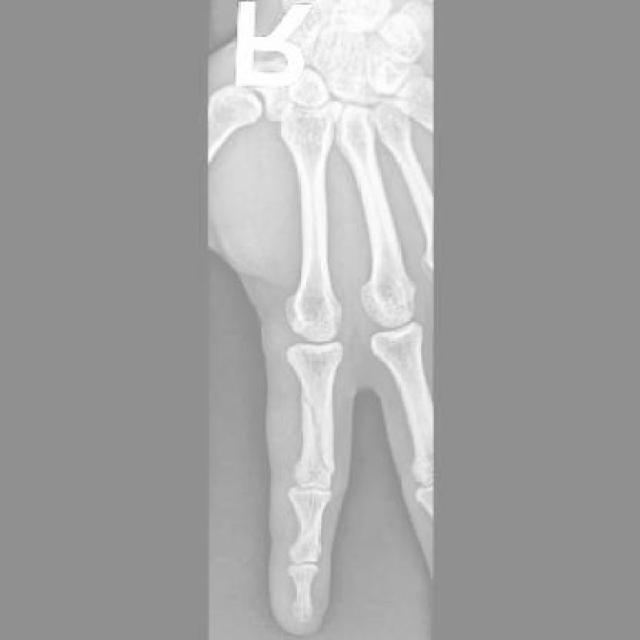Fracture: (292, 388, 334, 479), (291, 519, 324, 547)
